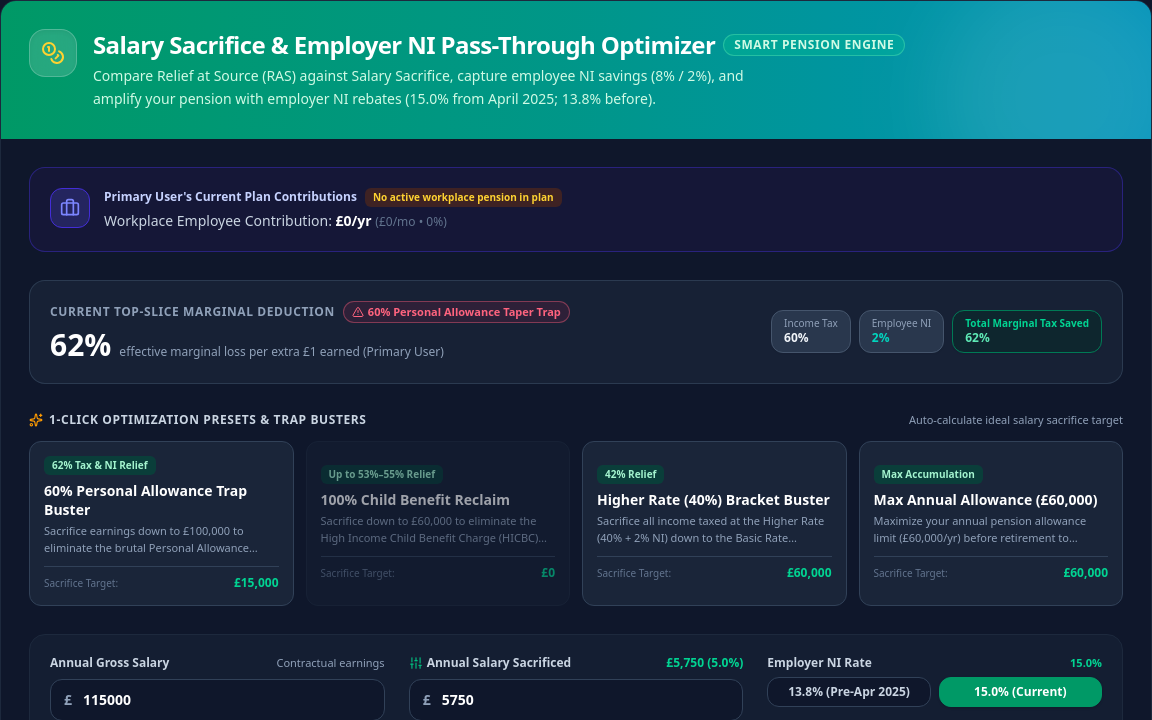
Test: SalarySacrificeOptimizerCard › updates sacrifice target when a 1-click preset is clicked
Click the button "60% Personal Allowance Trap Buster": click(161, 523) left=29, top=440, right=294, bottom=606
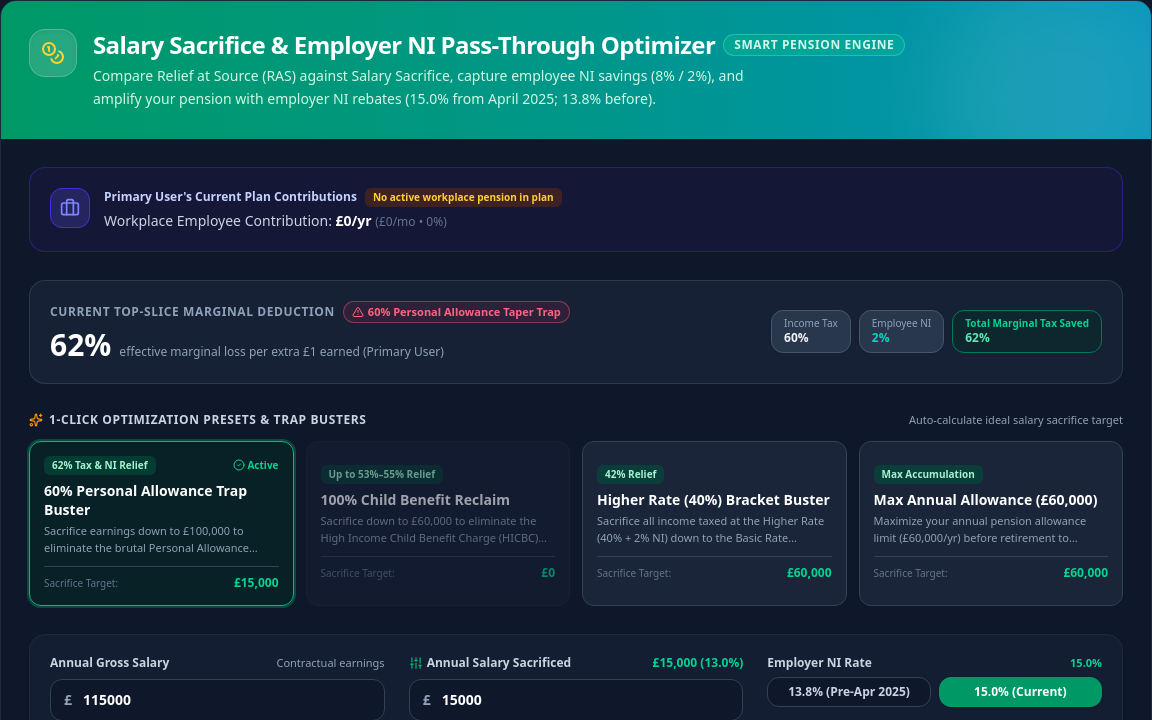
Expected: the text "£15,000 (13.0%)" is shown, left=653, top=655, right=743, bottom=671
